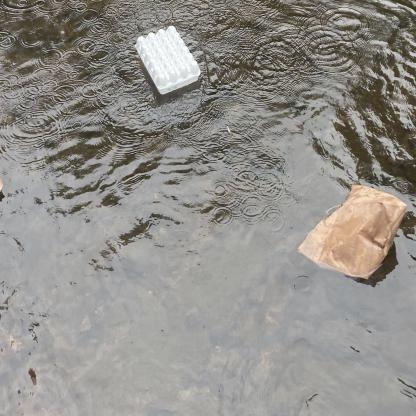Plastic: (129, 20, 207, 99)
Trash: (294, 178, 410, 286)
